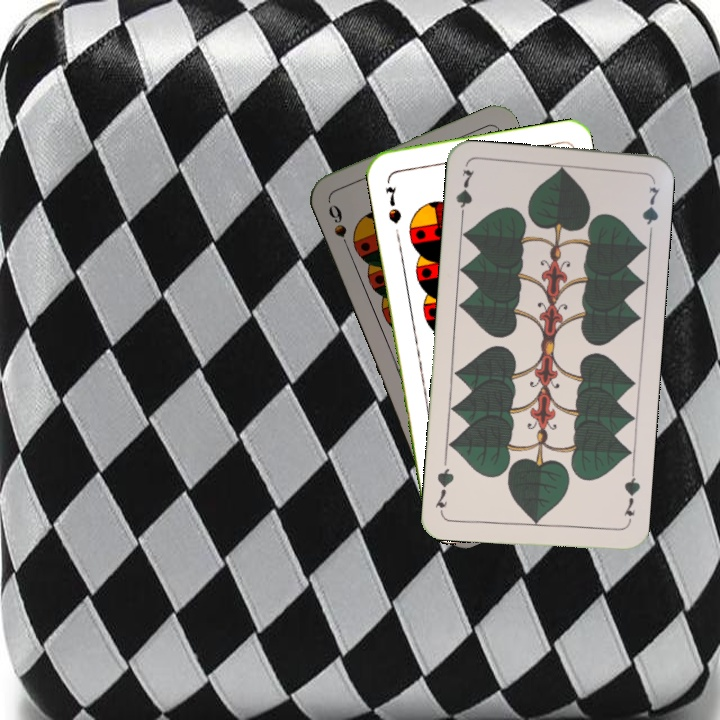G7: (452, 165, 477, 224), (620, 468, 643, 527)
S7: (381, 182, 404, 227)
S9: (324, 201, 354, 256)
